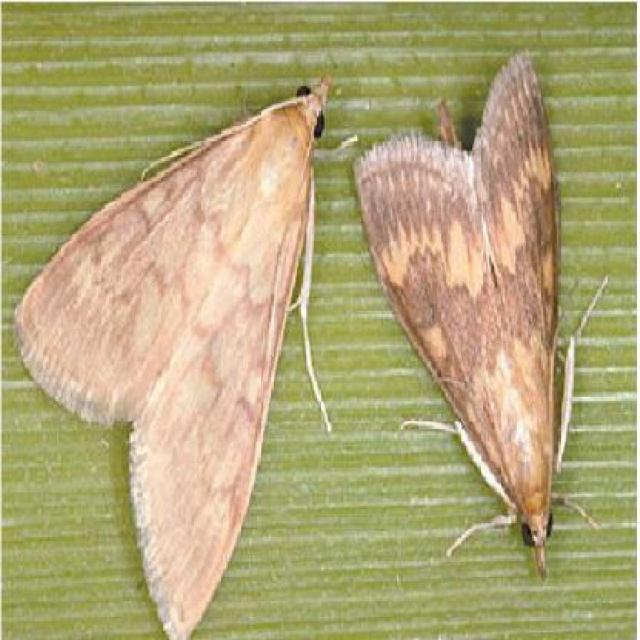stem-borer: (11, 66, 337, 640), (351, 45, 606, 586)
